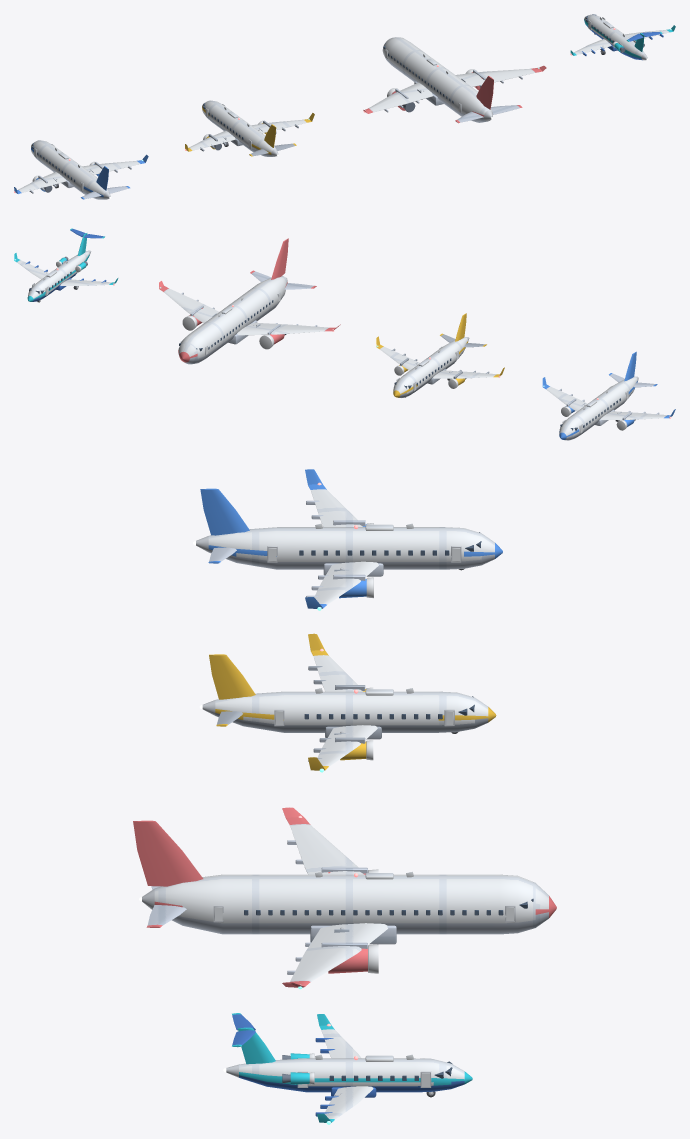
Rendered from aircraft_jets.glb.
The picture shows the model from 3 angles, top to bottom: view 1: azimuth 30°, elevation 25°; view 2: azimuth 150°, elevation 25°; view 3: azimuth 270°, elevation 25°; orthographic projection. The views are drawn at different scales.
Visible parts, largest first — view 1: Jet_Widebody_Meridian_Fuselage, Jet_Narrowbody_Azura_Fuselage, Jet_Narrowbody_Solstice_Fuselage, Jet_Regional_Veloce_Fuselage; view 2: Jet_Widebody_Meridian_Fuselage, Jet_Narrowbody_Azura_Fuselage, Jet_Narrowbody_Solstice_Fuselage, Jet_Regional_Veloce_Fuselage; view 3: Jet_Widebody_Meridian_Fuselage, Jet_Narrowbody_Azura_Fuselage, Jet_Narrowbody_Solstice_Fuselage, Jet_Regional_Veloce_Fuselage.
Part boxes in pixels (x1,y1,x2,y2): Jet_Widebody_Meridian_Fuselage: (363, 37, 546, 123); Jet_Narrowbody_Azura_Fuselage: (14, 140, 148, 199); Jet_Narrowbody_Solstice_Fuselage: (185, 100, 314, 156); Jet_Regional_Veloce_Fuselage: (570, 14, 675, 60); Jet_Widebody_Meridian_Fuselage: (159, 238, 340, 364); Jet_Narrowbody_Azura_Fuselage: (542, 351, 675, 440); Jet_Narrowbody_Solstice_Fuselage: (376, 313, 504, 397); Jet_Regional_Veloce_Fuselage: (14, 228, 118, 301); Jet_Widebody_Meridian_Fuselage: (133, 807, 556, 989); Jet_Narrowbody_Azura_Fuselage: (193, 469, 502, 610); Jet_Narrowbody_Solstice_Fuselage: (199, 633, 496, 772); Jet_Regional_Veloce_Fuselage: (223, 1013, 472, 1124).
Size of the model in its own units: 89.98 by 7.6 by 25.16.
Materials: 16 (2 with a texture image).
